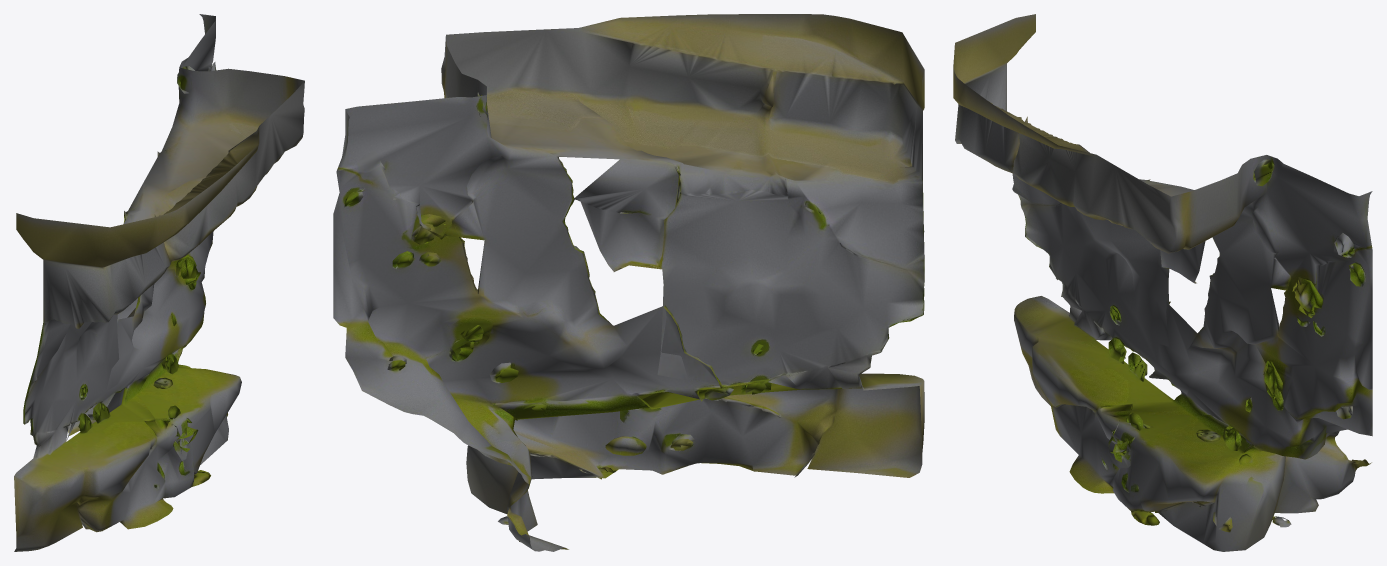
File: cave-boulder-moss.glb
3 renders of one model, left to right at view 1: azimuth 30°, elevation 25°; view 2: azimuth 150°, elevation 25°; view 3: azimuth 270°, elevation 25°, orthographic. The views are drawn at different scales.
Parts seen in each view (by area): view 1: tripo_node_0ba70ce3-c27c-4d98-a319-ac86880f5f32; view 2: tripo_node_0ba70ce3-c27c-4d98-a319-ac86880f5f32; view 3: tripo_node_0ba70ce3-c27c-4d98-a319-ac86880f5f32.
Part boxes in pixels (bbox=[...]): tripo_node_0ba70ce3-c27c-4d98-a319-ac86880f5f32: bbox=[14, 14, 304, 551]; tripo_node_0ba70ce3-c27c-4d98-a319-ac86880f5f32: bbox=[333, 14, 924, 551]; tripo_node_0ba70ce3-c27c-4d98-a319-ac86880f5f32: bbox=[953, 14, 1372, 551].
Bounding box in the file's own units: 0.998 × 0.9668 × 0.959.
Materials: 1 (1 with a texture image).
